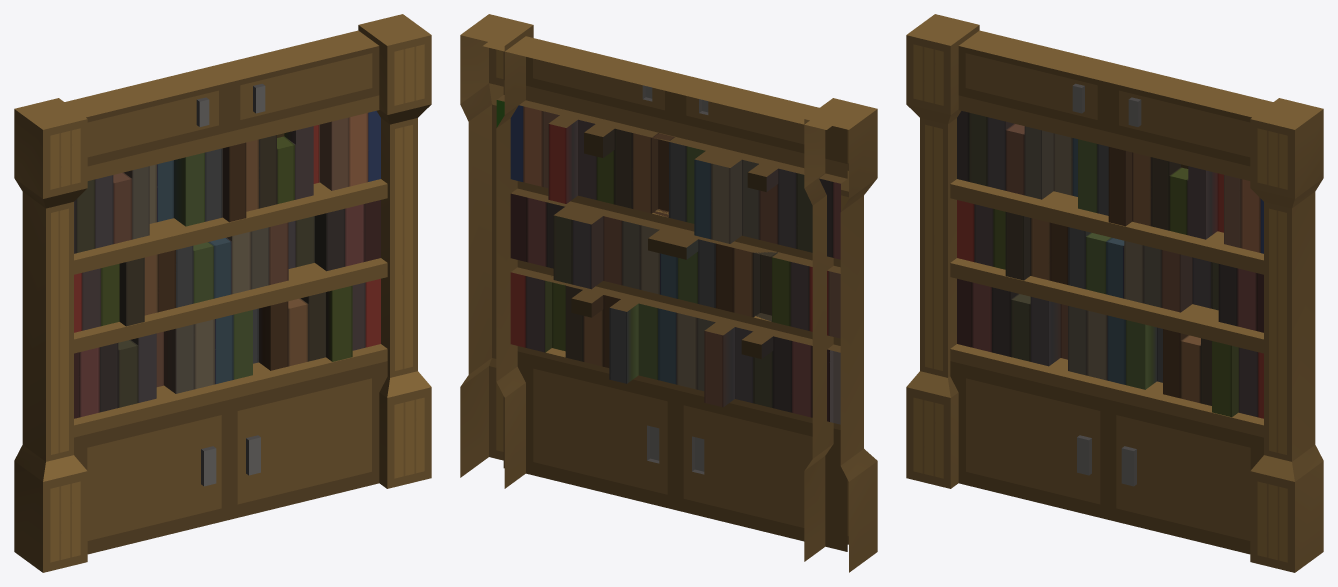
The model's file is SM_Env_BookShelf_Wall_04.glb.
3 renders of one model, left to right at view 1: azimuth 30°, elevation 25°; view 2: azimuth 150°, elevation 25°; view 3: azimuth 330°, elevation 25°, orthographic.
Visible parts, largest first — view 1: SM_Env_BookShelf_Wall_04; view 2: SM_Env_BookShelf_Wall_04; view 3: SM_Env_BookShelf_Wall_04.
Part boxes in pixels (x1,y1,x2,y2): SM_Env_BookShelf_Wall_04: (14, 14, 431, 572); SM_Env_BookShelf_Wall_04: (460, 14, 877, 572); SM_Env_BookShelf_Wall_04: (906, 14, 1323, 572).
Size of the model in its own units: 0.0459 by 0.05 by 0.0059.
Materials: 1 (1 with a texture image).
